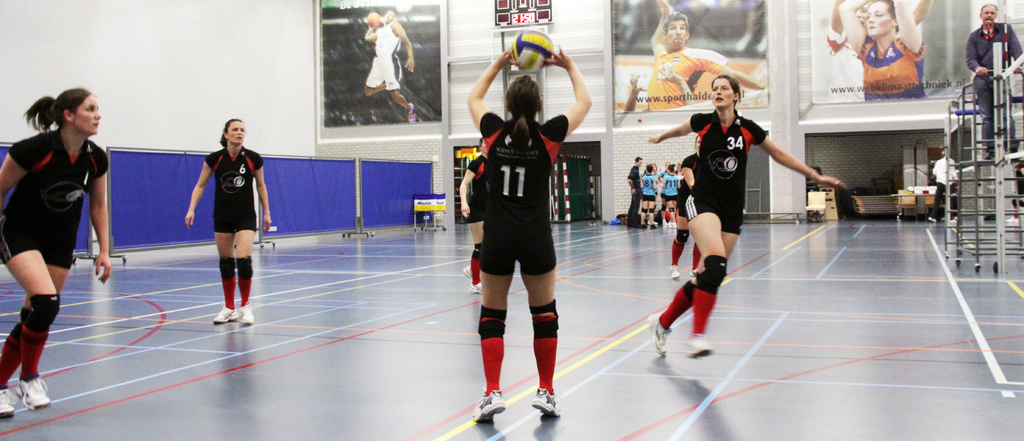Person: (966, 2, 1023, 158), (925, 149, 958, 222)
